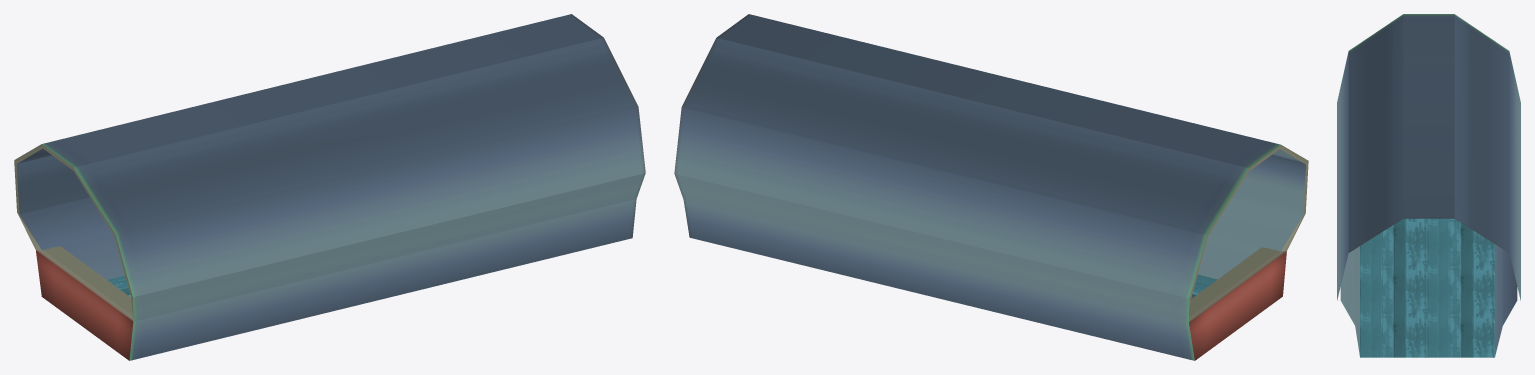
File: booth04.glb
3 renders of one model, left to right at view 1: azimuth 30°, elevation 25°; view 2: azimuth 150°, elevation 25°; view 3: azimuth 270°, elevation 25°, orthographic. The views are drawn at different scales.
Visible parts, largest first — view 1: booth04; view 2: booth04; view 3: booth04.
Boxes of the visible parts, x1,y1,x2,y2 form: booth04: (14, 14, 645, 360); booth04: (674, 14, 1308, 360); booth04: (1337, 14, 1520, 357).
Size of the model in its own units: 1985 by 643 by 752.
4 materials, 4 textured.
